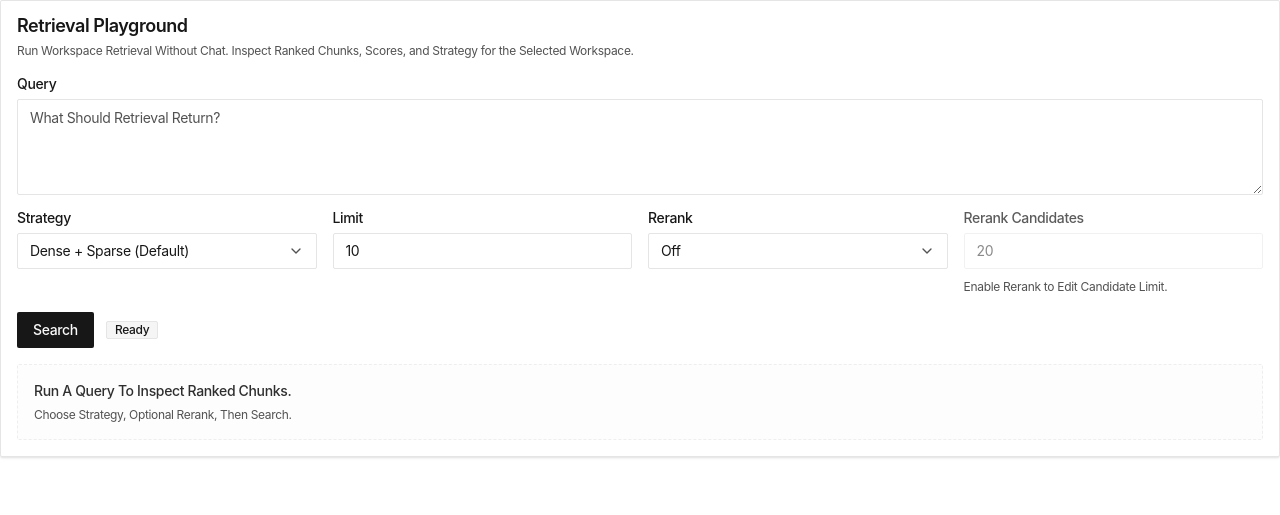
Test: RetrievalPlaygroundPanel › searches and renders ranked results
Type "What is the refund policy?" into the text box labelled "Query" at [640, 146], box [17,98,1263,194]
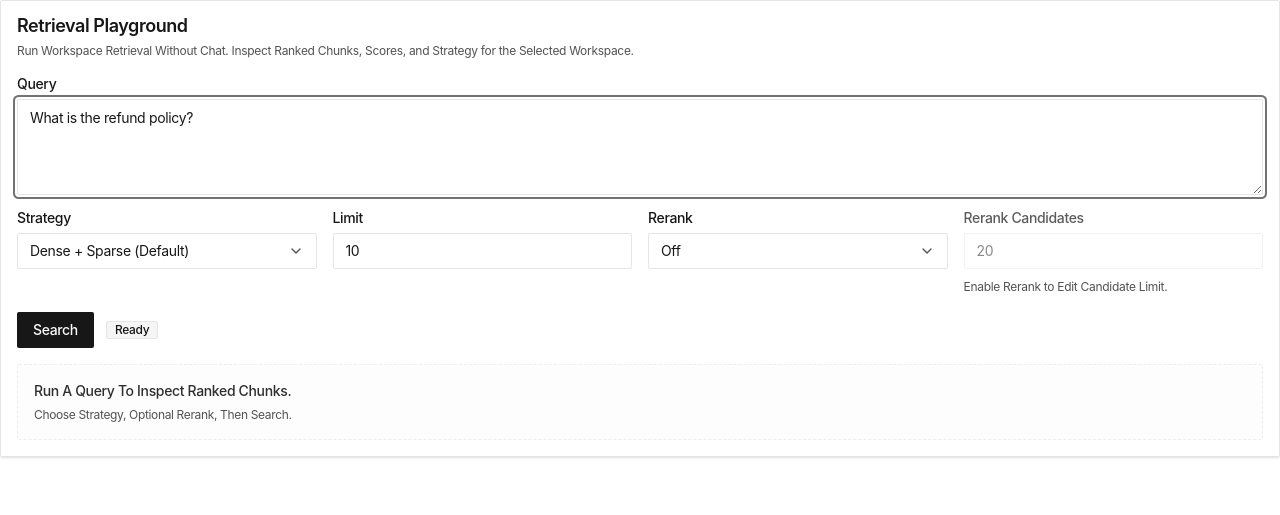
Click the button "Search" at [55, 330], box [17,312,94,348]
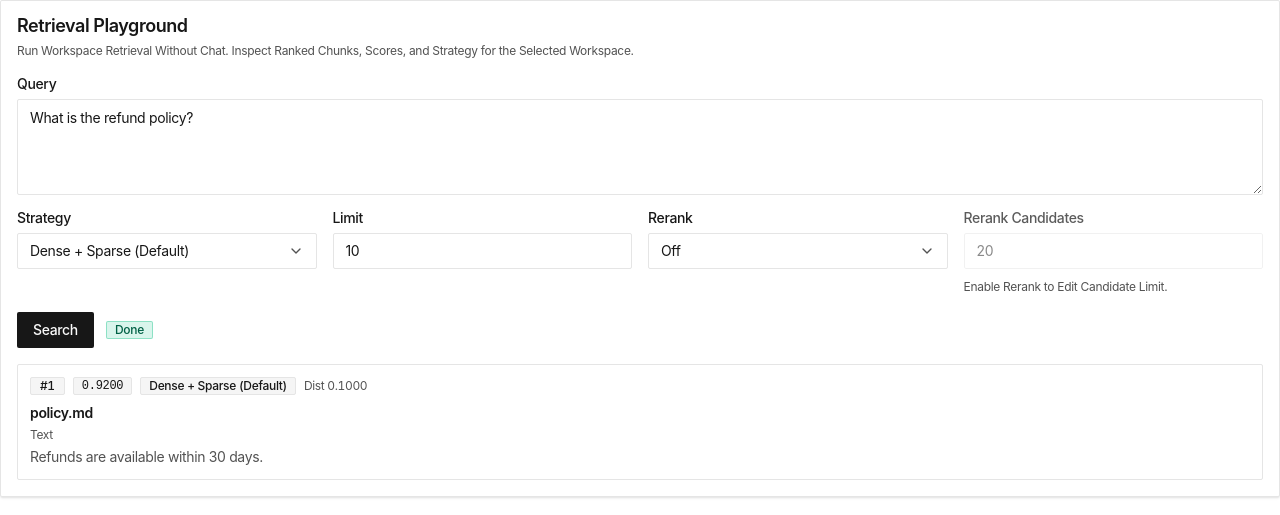
Expected: the text "policy.md" is shown, [30,404,93,421]
Expected: the text "Refunds are available within 30 days." is shown, [30,448,263,465]
Expected: the text "0.9200" is shown, [73,377,132,395]
